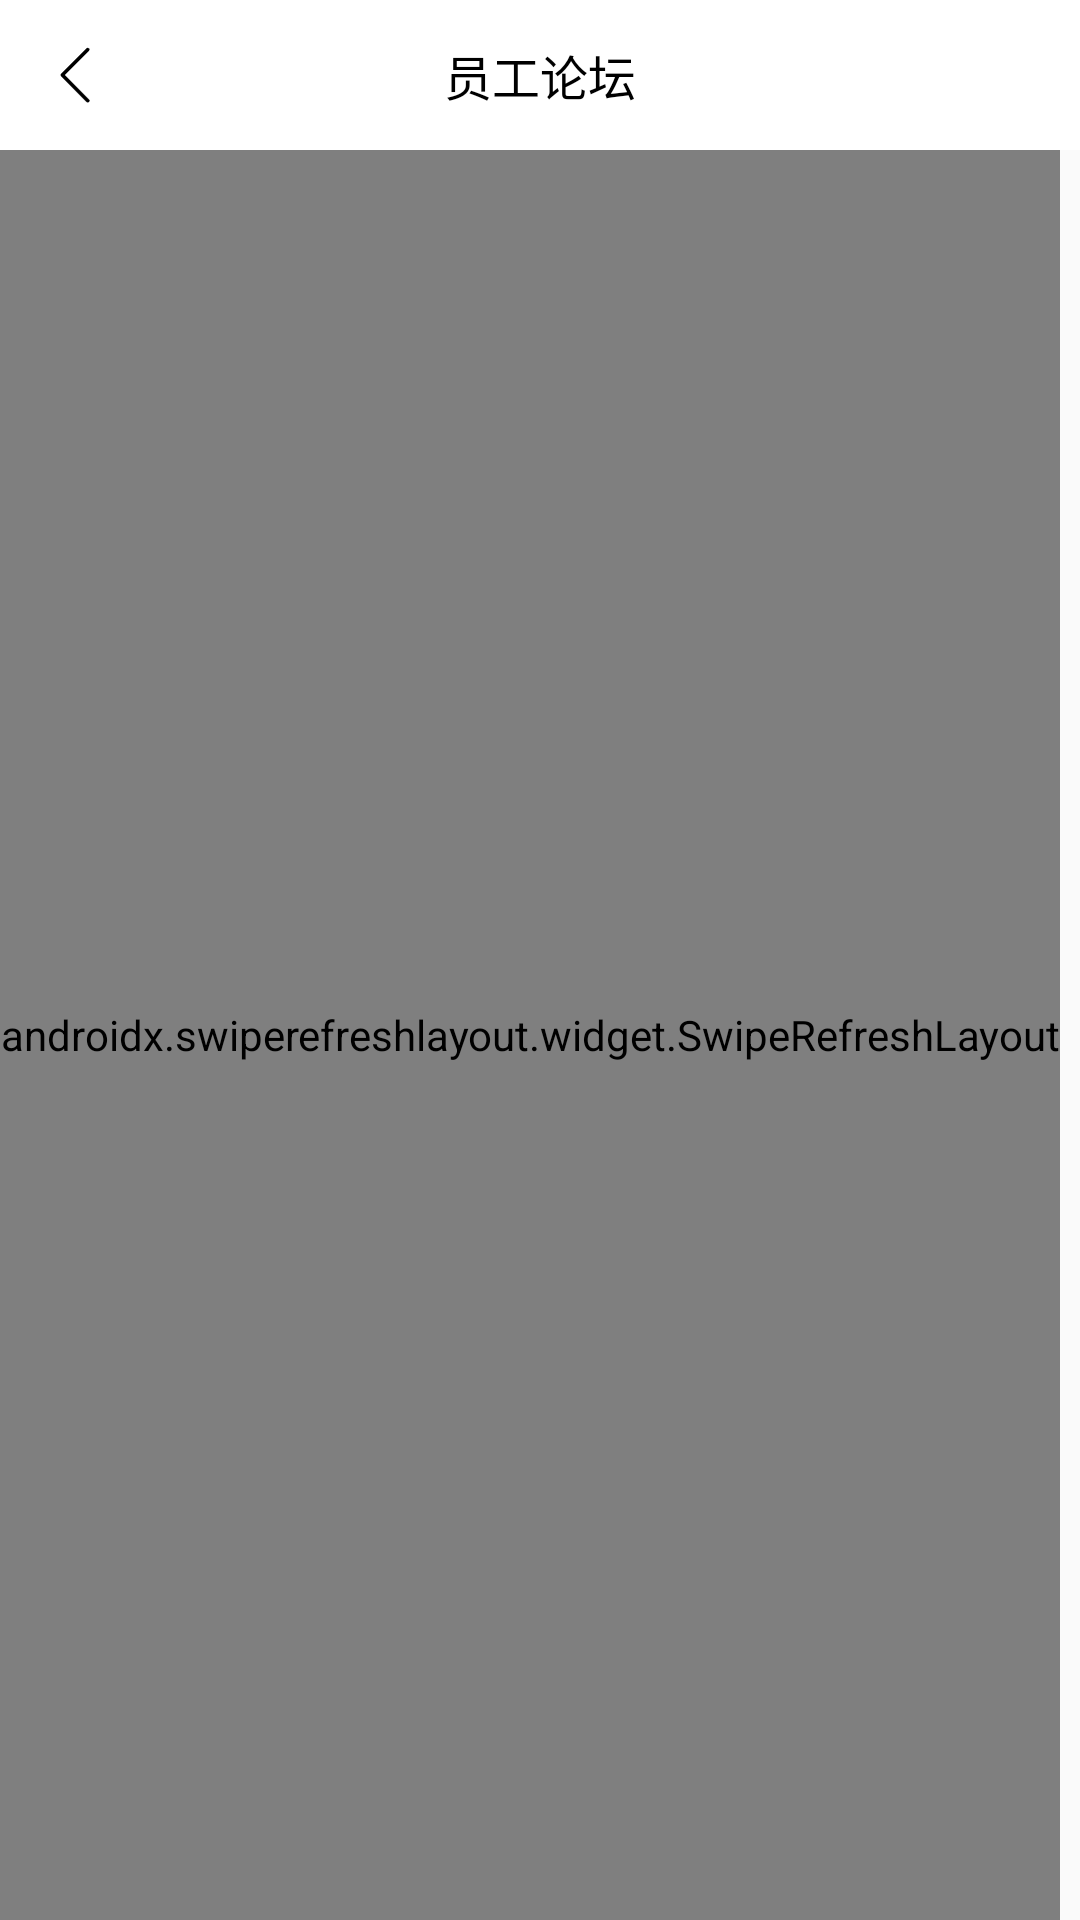

Icon click points for this 1080w x 1920h phone screenshot, format [x,y]:
fanhui: [75,75]
